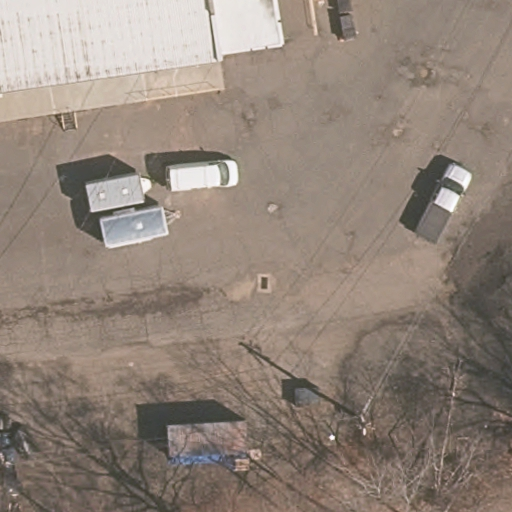DT: (333, 400, 382, 443)
